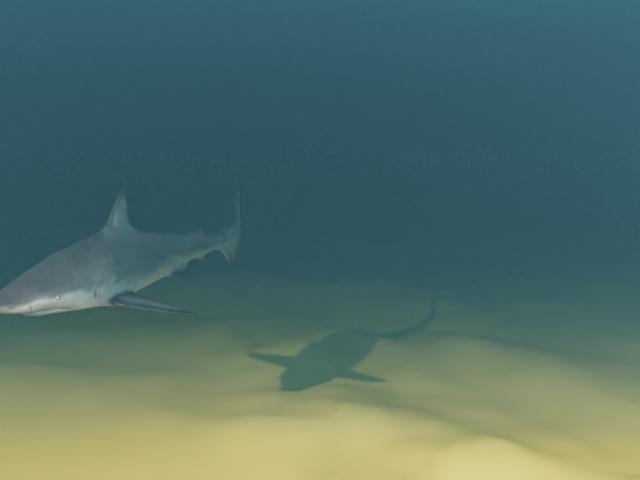Carribean Shark.001: (0, 180, 241, 315)
